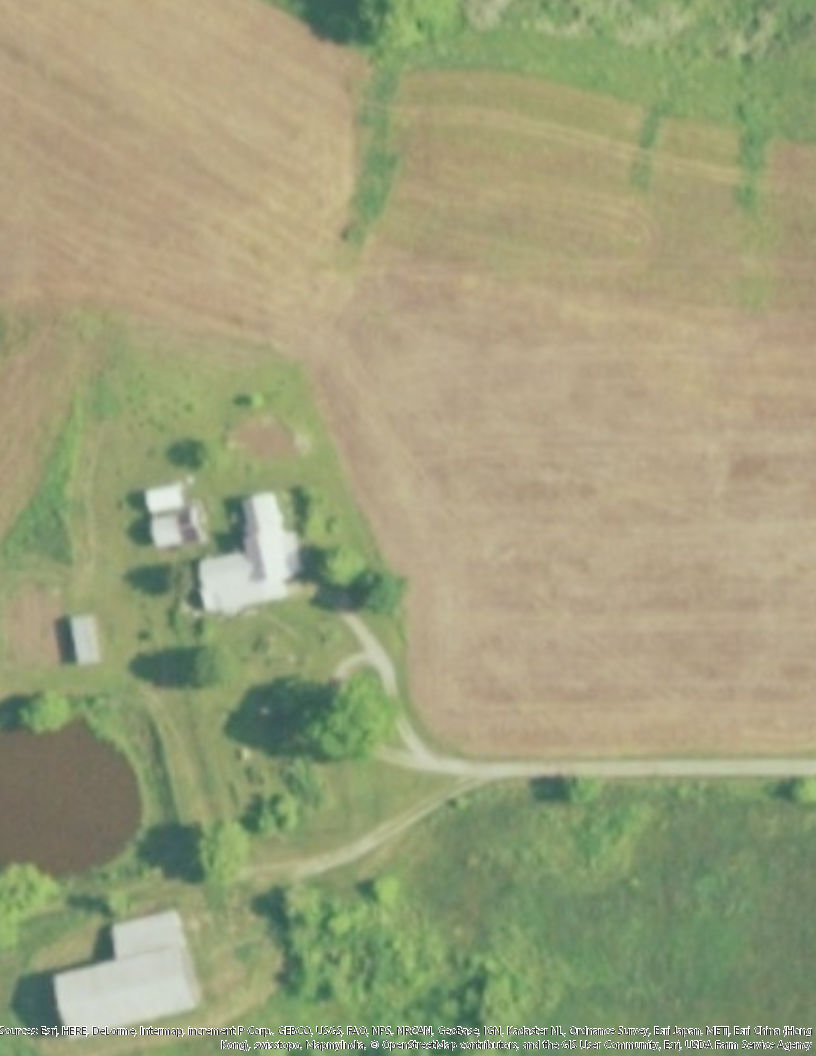cafo: (48, 897, 211, 1043)
